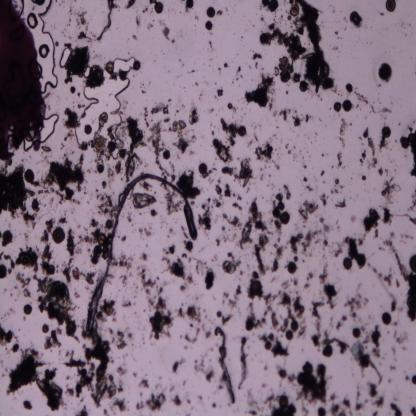Air bubble: (74, 56, 134, 148), (37, 0, 59, 91), (42, 112, 60, 144), (27, 12, 39, 29), (60, 48, 70, 68), (38, 43, 50, 59), (14, 0, 26, 15), (24, 139, 34, 152), (110, 148, 120, 159), (30, 0, 46, 5), (84, 66, 90, 78)
Background material: (300, 0, 335, 93), (91, 321, 120, 405), (33, 276, 76, 326), (4, 346, 42, 398), (46, 151, 84, 202), (258, 22, 306, 62), (0, 162, 33, 219), (179, 301, 212, 348), (34, 366, 66, 412), (244, 70, 279, 110), (296, 362, 327, 403), (147, 296, 174, 342), (124, 127, 146, 181), (134, 377, 166, 413), (382, 240, 409, 282), (62, 45, 90, 84), (135, 264, 162, 296), (321, 328, 348, 359), (75, 362, 96, 398), (177, 168, 201, 199), (344, 236, 367, 268), (248, 195, 267, 233), (149, 119, 165, 164), (344, 292, 369, 320), (39, 242, 59, 277), (160, 255, 186, 281), (246, 301, 267, 332), (65, 226, 85, 258), (349, 340, 371, 369), (380, 176, 402, 204), (252, 244, 271, 276), (162, 186, 182, 216), (17, 246, 38, 274), (405, 272, 416, 323), (219, 117, 238, 146), (95, 193, 117, 218), (298, 198, 319, 224), (211, 138, 232, 164), (63, 349, 88, 370), (320, 283, 340, 309), (221, 251, 242, 275), (45, 324, 63, 352), (197, 204, 214, 232), (245, 387, 262, 415), (364, 207, 381, 233), (0, 326, 20, 348), (238, 221, 253, 250), (234, 158, 252, 182), (172, 129, 189, 154), (113, 253, 135, 272), (41, 219, 56, 246), (271, 337, 290, 358), (82, 342, 101, 363), (254, 142, 273, 162), (63, 108, 81, 129), (100, 296, 115, 320), (74, 7, 90, 29), (270, 403, 297, 416), (292, 293, 305, 320), (106, 372, 119, 399), (62, 256, 74, 285), (48, 186, 65, 206), (84, 64, 98, 88), (115, 328, 129, 352), (302, 230, 314, 258), (311, 319, 322, 349), (21, 210, 39, 228), (289, 15, 304, 36), (222, 214, 240, 230), (408, 141, 416, 177), (16, 272, 32, 290), (93, 148, 109, 166), (296, 317, 309, 339), (280, 62, 294, 82), (150, 101, 170, 115), (204, 268, 216, 291), (291, 233, 304, 254), (4, 254, 17, 275), (193, 256, 208, 274), (310, 301, 325, 319), (264, 392, 279, 410), (32, 177, 47, 195), (278, 290, 293, 308), (372, 362, 384, 384), (187, 100, 198, 124), (356, 390, 368, 412), (102, 232, 112, 258), (405, 188, 416, 211), (260, 0, 278, 14), (149, 0, 165, 15), (330, 401, 346, 416), (76, 30, 94, 43), (381, 207, 394, 225), (105, 165, 116, 186), (172, 358, 186, 374), (372, 324, 381, 348), (360, 326, 372, 344), (110, 68, 128, 80), (366, 137, 376, 158), (2, 307, 16, 322), (30, 198, 44, 213), (354, 92, 369, 106), (270, 12, 284, 27), (367, 382, 379, 399), (258, 231, 269, 249), (194, 359, 206, 375), (86, 269, 98, 285), (169, 158, 177, 182), (400, 232, 416, 244), (80, 317, 88, 341), (372, 395, 385, 409), (264, 293, 279, 305), (319, 264, 328, 284), (159, 163, 170, 179), (169, 395, 183, 407), (391, 402, 403, 416), (222, 232, 237, 243), (272, 311, 280, 331), (204, 364, 212, 384), (276, 366, 288, 379), (396, 332, 409, 344), (112, 400, 125, 412), (228, 297, 239, 311), (280, 107, 291, 121), (92, 227, 101, 244), (339, 117, 347, 136), (274, 243, 284, 258), (334, 241, 344, 256), (161, 26, 171, 41), (273, 219, 283, 234), (389, 296, 398, 312), (286, 305, 295, 321), (244, 225, 252, 243), (320, 193, 329, 209), (78, 404, 90, 416), (258, 332, 274, 341), (163, 243, 176, 254), (292, 114, 303, 127), (378, 136, 388, 150), (174, 102, 184, 116), (143, 224, 153, 238), (143, 106, 149, 129), (314, 229, 322, 246), (63, 129, 74, 141), (371, 347, 382, 359), (221, 314, 232, 326), (368, 158, 379, 170), (281, 278, 291, 291), (264, 304, 274, 317), (222, 166, 235, 176), (139, 180, 152, 190), (360, 149, 368, 165), (114, 159, 122, 175), (284, 184, 292, 200), (118, 272, 127, 286), (272, 255, 279, 273), (125, 0, 136, 11), (83, 234, 93, 246), (116, 366, 128, 376), (215, 185, 223, 200), (11, 342, 21, 354), (280, 317, 288, 332), (300, 403, 309, 416), (338, 150, 344, 169), (224, 184, 232, 198), (186, 274, 196, 285), (335, 198, 346, 208), (212, 198, 223, 208), (64, 388, 75, 398), (22, 288, 32, 299), (90, 217, 100, 228), (337, 136, 346, 148), (342, 397, 351, 409), (188, 134, 198, 144), (202, 172, 212, 182), (58, 216, 68, 226), (317, 406, 327, 416), (271, 159, 280, 170), (384, 274, 392, 286), (234, 284, 242, 296), (394, 212, 410, 218), (23, 400, 32, 410), (135, 14, 141, 29), (252, 51, 262, 60), (306, 271, 314, 282), (324, 223, 332, 234), (276, 191, 284, 202), (118, 378, 124, 392), (362, 127, 369, 139), (233, 204, 243, 212), (288, 372, 296, 382), (140, 251, 148, 261), (251, 271, 259, 281), (72, 198, 82, 206), (268, 132, 276, 142), (122, 300, 132, 308), (292, 74, 302, 82), (381, 107, 392, 114), (350, 214, 358, 223), (216, 8, 224, 17), (73, 290, 81, 299), (346, 84, 354, 93), (71, 334, 80, 342), (180, 283, 187, 293), (113, 2, 120, 12), (207, 40, 214, 50), (378, 166, 384, 177), (410, 405, 416, 416), (304, 112, 310, 123), (130, 371, 138, 379), (322, 239, 330, 247), (126, 331, 134, 339), (272, 67, 280, 75), (330, 392, 337, 401), (409, 217, 416, 226), (305, 185, 314, 192), (357, 282, 364, 291), (103, 407, 110, 416), (390, 231, 396, 241), (371, 104, 377, 114), (330, 317, 335, 329), (293, 278, 299, 288), (212, 252, 218, 262), (80, 270, 86, 280), (396, 305, 404, 312), (182, 233, 190, 240), (273, 110, 280, 118), (164, 116, 171, 124), (147, 22, 154, 30), (196, 394, 203, 402), (132, 33, 139, 41), (187, 68, 195, 75), (87, 166, 94, 174), (127, 211, 132, 222), (360, 173, 366, 182), (330, 188, 339, 194), (390, 346, 396, 355), (384, 167, 390, 176), (83, 185, 88, 195), (292, 151, 297, 161), (336, 321, 341, 331), (374, 228, 379, 238), (395, 278, 400, 288), (76, 103, 86, 108), (216, 90, 223, 97), (82, 226, 89, 233), (408, 125, 414, 133), (389, 364, 397, 370), (120, 235, 128, 241), (142, 6, 148, 14), (378, 246, 386, 252), (336, 225, 342, 233), (158, 20, 166, 26), (107, 273, 115, 279), (404, 373, 410, 381), (248, 140, 254, 148), (208, 108, 216, 114), (236, 66, 242, 74), (184, 6, 190, 14), (260, 14, 266, 22), (318, 216, 324, 224), (394, 328, 398, 340), (59, 143, 65, 150), (170, 384, 177, 390), (180, 225, 186, 232), (222, 292, 229, 298), (181, 253, 188, 259), (25, 233, 31, 240), (371, 410, 378, 416), (334, 178, 340, 185), (304, 283, 310, 290), (112, 109, 118, 116), (188, 149, 194, 156), (302, 176, 308, 183), (216, 66, 222, 73), (341, 315, 347, 322), (378, 10, 384, 17), (342, 16, 348, 23), (186, 398, 192, 405), (267, 230, 274, 236), (393, 320, 398, 328), (199, 91, 203, 101), (272, 199, 277, 207), (216, 239, 221, 247), (69, 5, 73, 15), (64, 43, 72, 48), (285, 142, 290, 150), (84, 284, 90, 290), (302, 163, 308, 169), (218, 384, 224, 390), (60, 30, 66, 36), (339, 184, 345, 190), (236, 194, 242, 200), (382, 26, 388, 32), (254, 135, 260, 141), (289, 0, 296, 5), (331, 88, 338, 93), (320, 169, 325, 176), (375, 83, 382, 88), (111, 337, 116, 344), (187, 256, 192, 263), (259, 1, 262, 12), (207, 197, 211, 205), (109, 326, 113, 334), (260, 173, 264, 181), (246, 186, 250, 194), (66, 18, 70, 26), (22, 314, 26, 322), (0, 251, 4, 259), (76, 92, 81, 98), (223, 62, 228, 68), (366, 262, 372, 267), (210, 130, 215, 136), (271, 277, 276, 283), (348, 120, 353, 126), (211, 402, 216, 408), (356, 103, 361, 109), (263, 365, 268, 371), (357, 136, 363, 141), (194, 15, 199, 21), (334, 46, 340, 51), (208, 169, 213, 175), (139, 228, 143, 235), (278, 236, 282, 243), (254, 61, 258, 68), (233, 106, 236, 115), (239, 270, 244, 275), (373, 268, 378, 273), (95, 188, 100, 193), (320, 153, 325, 158), (348, 411, 353, 416), (262, 382, 266, 388), (384, 114, 388, 120), (294, 256, 298, 262), (232, 192, 236, 198), (212, 167, 218, 171), (317, 93, 321, 99), (168, 127, 172, 133), (31, 6, 37, 10), (106, 280, 112, 284), (368, 40, 374, 44), (308, 154, 311, 162), (66, 374, 70, 380), (158, 376, 162, 381), (390, 100, 394, 105), (403, 346, 408, 350), (332, 9, 336, 14), (213, 94, 217, 99), (287, 150, 291, 155), (378, 273, 382, 278), (240, 74, 244, 79), (285, 90, 289, 95), (145, 242, 148, 248), (232, 78, 235, 84), (401, 21, 404, 27), (218, 179, 221, 185), (222, 298, 225, 304), (259, 167, 263, 171), (319, 118, 323, 122), (314, 131, 318, 135), (294, 110, 298, 114), (275, 125, 279, 129), (302, 224, 306, 228), (111, 360, 115, 364), (142, 89, 146, 93), (168, 98, 172, 102), (322, 180, 326, 184), (248, 65, 252, 69), (89, 253, 93, 257), (334, 31, 338, 35), (268, 174, 272, 178), (170, 228, 173, 233), (222, 226, 225, 231), (320, 97, 323, 102), (149, 118, 154, 121), (364, 23, 367, 28), (270, 219, 273, 224), (388, 378, 391, 383), (225, 7, 228, 12), (183, 380, 185, 387), (0, 231, 2, 238), (395, 139, 398, 143), (408, 22, 411, 26), (182, 62, 184, 68), (172, 39, 175, 43), (127, 51, 130, 55), (365, 115, 368, 119), (209, 31, 212, 35), (209, 348, 212, 352), (131, 344, 135, 347), (191, 201, 194, 205), (382, 114, 384, 120), (121, 176, 124, 180), (398, 122, 401, 126), (263, 165, 266, 169), (274, 148, 277, 152), (133, 302, 136, 306), (235, 76, 238, 80), (404, 34, 408, 37), (179, 58, 181, 63), (168, 69, 170, 74), (196, 82, 198, 87), (338, 93, 343, 95), (387, 331, 390, 334), (301, 156, 304, 159), (329, 107, 332, 110), (252, 24, 255, 27), (331, 165, 334, 168), (247, 265, 250, 268), (54, 0, 57, 3), (139, 211, 142, 214), (337, 36, 340, 39), (320, 11, 323, 14), (166, 235, 170, 237), (294, 145, 296, 149), (210, 49, 212, 53), (389, 50, 391, 54), (88, 201, 90, 205), (384, 122, 386, 126), (410, 56, 412, 60), (143, 310, 146, 312), (344, 28, 347, 30), (304, 260, 306, 263), (390, 148, 392, 151), (370, 26, 372, 29), (394, 169, 396, 172), (142, 83, 144, 86), (183, 87, 186, 89), (209, 64, 211, 67), (126, 102, 128, 105), (394, 23, 396, 26), (310, 141, 312, 144), (378, 110, 380, 113), (88, 249, 90, 252), (210, 123, 212, 126), (277, 153, 279, 156), (215, 82, 217, 85), (359, 108, 362, 110), (210, 145, 213, 147), (378, 97, 379, 102), (308, 137, 310, 139), (366, 18, 368, 20), (215, 158, 217, 160), (152, 20, 154, 22), (306, 151, 308, 153), (213, 163, 215, 165), (162, 52, 164, 54), (140, 86, 142, 88), (373, 102, 375, 104), (367, 40, 368, 44), (340, 37, 342, 39), (293, 130, 295, 132), (242, 36, 244, 38), (404, 27, 406, 29), (379, 102, 381, 104), (310, 115, 311, 118), (369, 110, 370, 113), (178, 75, 179, 78), (405, 156, 407, 157), (415, 72, 416, 74), (378, 93, 379, 95), (180, 11, 181, 13)
Cellulose filter fibre: (212, 324, 237, 404), (97, 0, 114, 40), (238, 334, 248, 390)
Cotton: (85, 171, 200, 336)
Diatom: (134, 193, 156, 208), (377, 64, 392, 82), (348, 9, 362, 26), (250, 280, 264, 295), (52, 227, 64, 244), (301, 360, 314, 375), (243, 170, 254, 187), (65, 320, 77, 334), (24, 169, 35, 183), (289, 3, 300, 17), (381, 312, 392, 326), (2, 230, 13, 244), (342, 256, 353, 270), (408, 254, 416, 272), (93, 68, 104, 81), (385, 0, 396, 13), (280, 211, 290, 225), (95, 138, 106, 150), (287, 261, 297, 274), (297, 371, 306, 385), (206, 6, 216, 18), (198, 162, 208, 174), (278, 56, 288, 68), (342, 100, 352, 112), (278, 394, 288, 406), (0, 263, 7, 280), (23, 304, 33, 315), (106, 61, 115, 73), (300, 80, 309, 92), (98, 233, 106, 246), (301, 52, 314, 60), (401, 136, 409, 149), (290, 320, 300, 330), (383, 126, 391, 138), (272, 207, 280, 219), (94, 244, 102, 256), (238, 126, 247, 136), (162, 150, 171, 160), (185, 0, 194, 9), (186, 241, 194, 251), (100, 112, 108, 122), (84, 125, 92, 135), (352, 328, 360, 338), (133, 60, 141, 70), (105, 219, 113, 229), (204, 20, 212, 30), (285, 330, 293, 340), (42, 323, 49, 334), (72, 270, 80, 279), (278, 201, 286, 210), (264, 341, 272, 350), (109, 141, 116, 151), (97, 164, 104, 174), (334, 102, 341, 112), (119, 148, 126, 158), (172, 121, 178, 132), (178, 120, 186, 128), (70, 86, 77, 94), (91, 256, 98, 264), (41, 146, 52, 151), (408, 133, 414, 142), (150, 208, 156, 217), (411, 375, 416, 385), (216, 310, 222, 318), (228, 102, 232, 109), (102, 180, 106, 186), (288, 15, 292, 21), (55, 41, 59, 46)
Pen: (0, 0, 41, 163)
